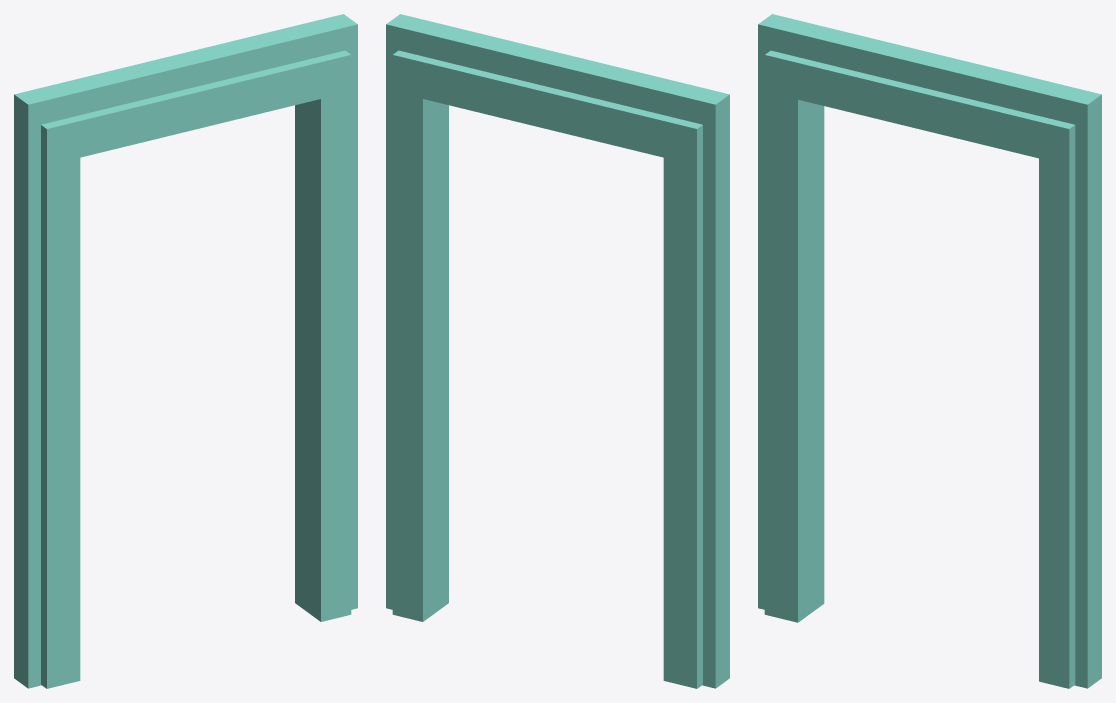
File: encadrement_porte.fbx
3 views of the same model, side by side, from view 1: azimuth 30°, elevation 25°; view 2: azimuth 150°, elevation 25°; view 3: azimuth 330°, elevation 25° (orthographic).
Parts seen in each view (by area): view 1: porte_cadre.001; view 2: porte_cadre.001; view 3: porte_cadre.001.
Boxes of the visible parts, x1,y1,x2,y2 form: porte_cadre.001: [14, 14, 357, 688]; porte_cadre.001: [386, 14, 729, 688]; porte_cadre.001: [758, 14, 1101, 688].
Size of the model in its own units: 158 by 267 by 21.6.
